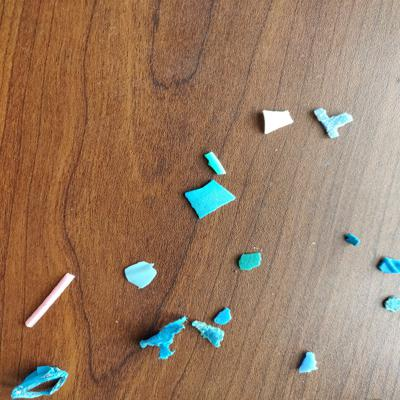plastic: (21, 269, 76, 330), (180, 178, 241, 226), (137, 313, 189, 362), (9, 362, 74, 400), (311, 101, 356, 141), (189, 318, 231, 352), (257, 106, 297, 140), (123, 258, 160, 291), (201, 148, 238, 177), (235, 249, 269, 276), (296, 348, 326, 378), (374, 254, 400, 278), (380, 287, 400, 316), (212, 306, 238, 327), (340, 227, 363, 248)
